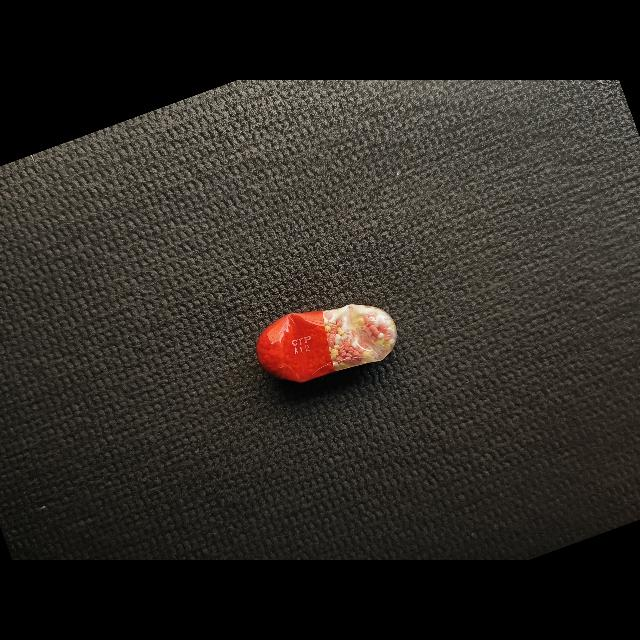Defective Capsule: (256, 304, 397, 383)
